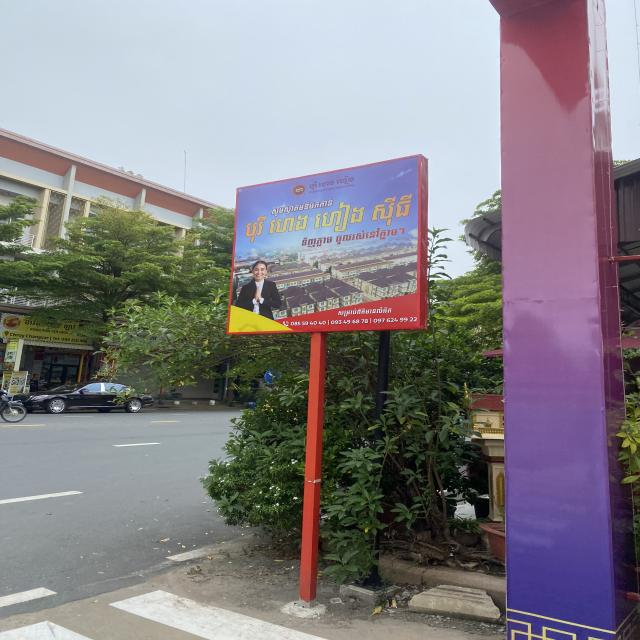1: (296, 225, 408, 250)
2: (308, 173, 356, 192)
3: (239, 192, 414, 245)
401: (290, 315, 419, 327)
482: (60, 336, 90, 344)
893: (293, 186, 305, 193)
Yolov11_80vkh: (270, 196, 334, 218), (337, 305, 395, 317)
